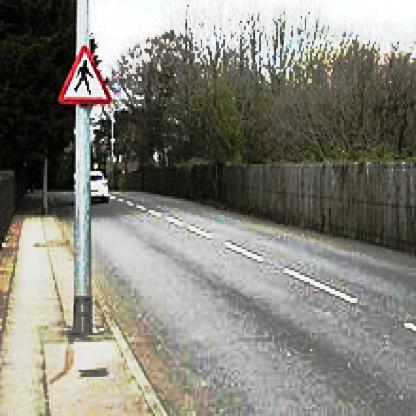Pedestrian Crossing: (56, 38, 115, 112)
